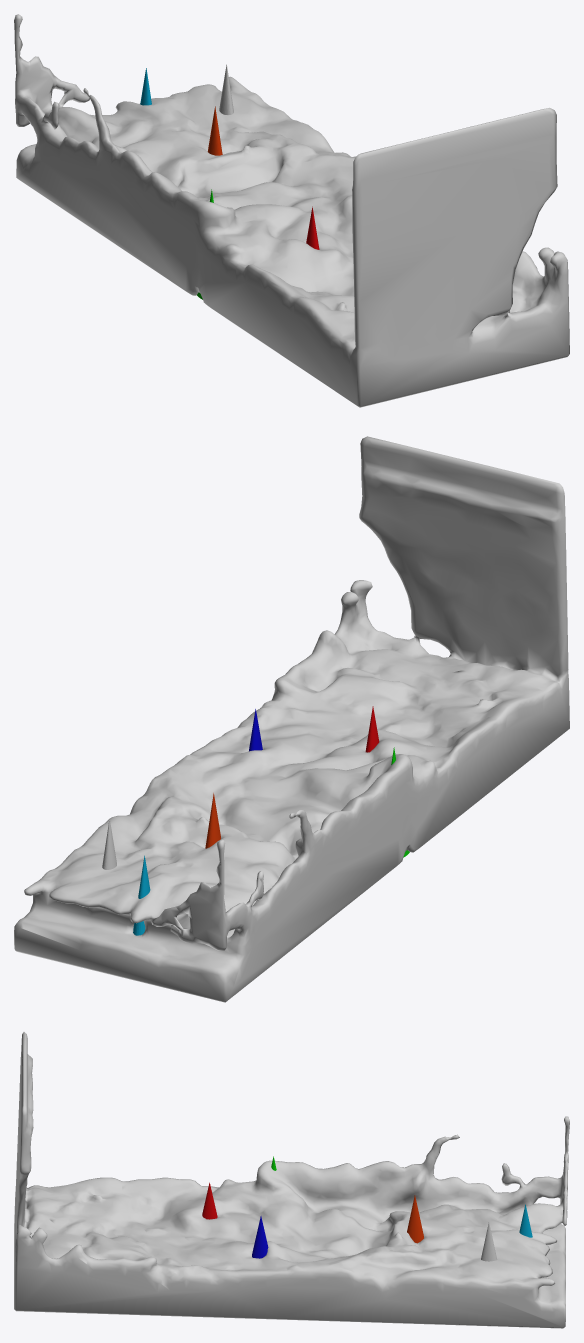
3 views of the same model, one above another, from view 1: azimuth 30°, elevation 25°; view 2: azimuth 150°, elevation 25°; view 3: azimuth 270°, elevation 25° (orthographic). The views are drawn at different scales.
Visible parts, largest first — view 1: Liquid_Domain; view 2: Liquid_Domain; view 3: Liquid_Domain, 円錐.004, 円錐.002.
Boxes of the visible parts, x1,y1,x2,y2 form: Liquid_Domain: (14, 14, 569, 407); Liquid_Domain: (14, 436, 569, 1002); Liquid_Domain: (14, 1032, 569, 1328); 円錐.004: (407, 1195, 423, 1243); 円錐.002: (252, 1216, 268, 1258).
Size of the model in its own units: 129 by 158 by 364.
